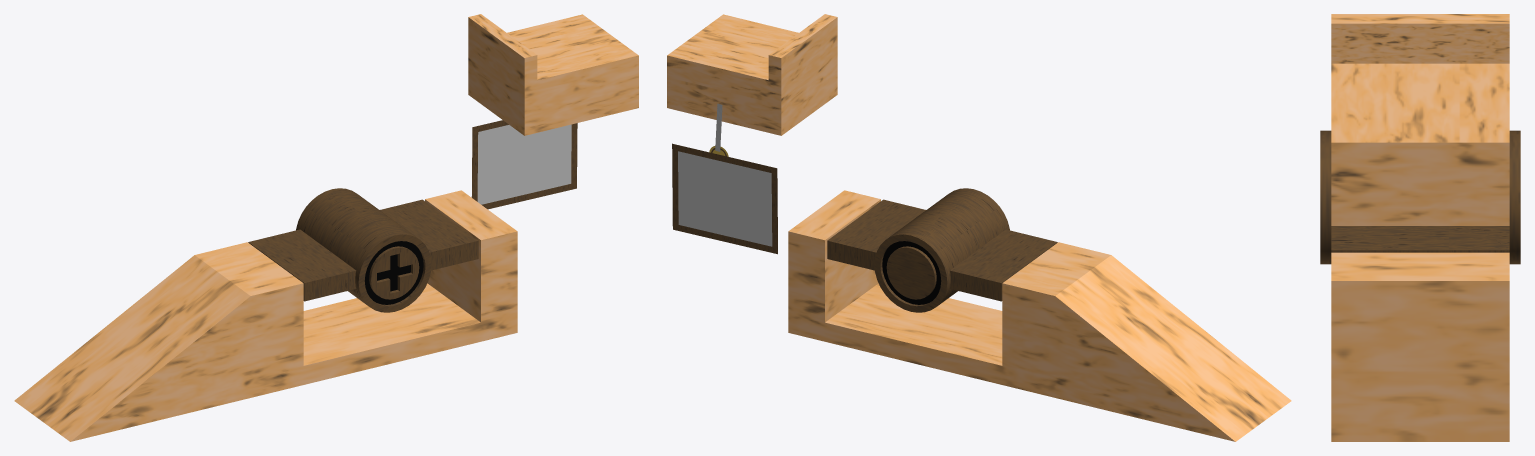
File: level7.fbx
3 renders of one model, left to right at view 1: azimuth 30°, elevation 25°; view 2: azimuth 150°, elevation 25°; view 3: azimuth 270°, elevation 25°, orthographic. The views are drawn at different scales.
Parts seen in each view (by area): view 1: Cube.013, Cube.015, Pullable.006, Sign1.007, Cube.014; view 2: Cube.013, Cube.015, Pullable.006, Sign1.007, Cube.014; view 3: Cube.015, Cube.013, Cube.014, Pullable.006.
Boxes of the visible parts, box(x1,y1,x2,y2) form: Cube.013: box(14, 190, 517, 441); Cube.015: box(468, 14, 638, 135); Pullable.006: box(296, 188, 431, 312); Sign1.007: box(471, 120, 577, 209); Cube.014: box(248, 199, 478, 301); Cube.013: box(788, 190, 1291, 441); Cube.015: box(667, 14, 837, 135); Pullable.006: box(874, 188, 1009, 312); Sign1.007: box(672, 143, 777, 254); Cube.014: box(827, 199, 1057, 301); Cube.015: box(1331, 14, 1509, 225); Cube.013: box(1331, 252, 1509, 441); Cube.014: box(1331, 226, 1509, 252); Pullable.006: box(1320, 130, 1520, 264).
Bounding box in the file's own units: 2339 × 450 × 1073.
